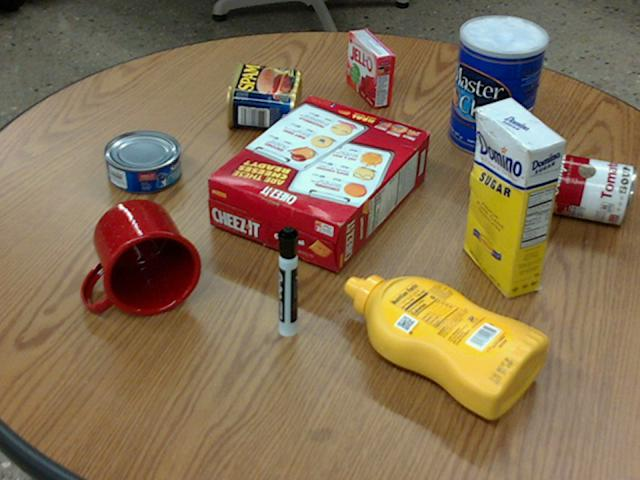cracker_box: (206, 96, 428, 272)
gelatin_box: (347, 28, 394, 107)
large_marker: (276, 225, 297, 336)
master_chef_can: (448, 16, 548, 156)
mug: (80, 199, 199, 315)
mustard_bottle: (344, 275, 547, 418)
potted_meat_can: (225, 60, 301, 129)
sugar_box: (465, 97, 563, 298)
tomato_soup_can: (529, 148, 633, 223)
tuna_fish_can: (103, 129, 180, 191)
